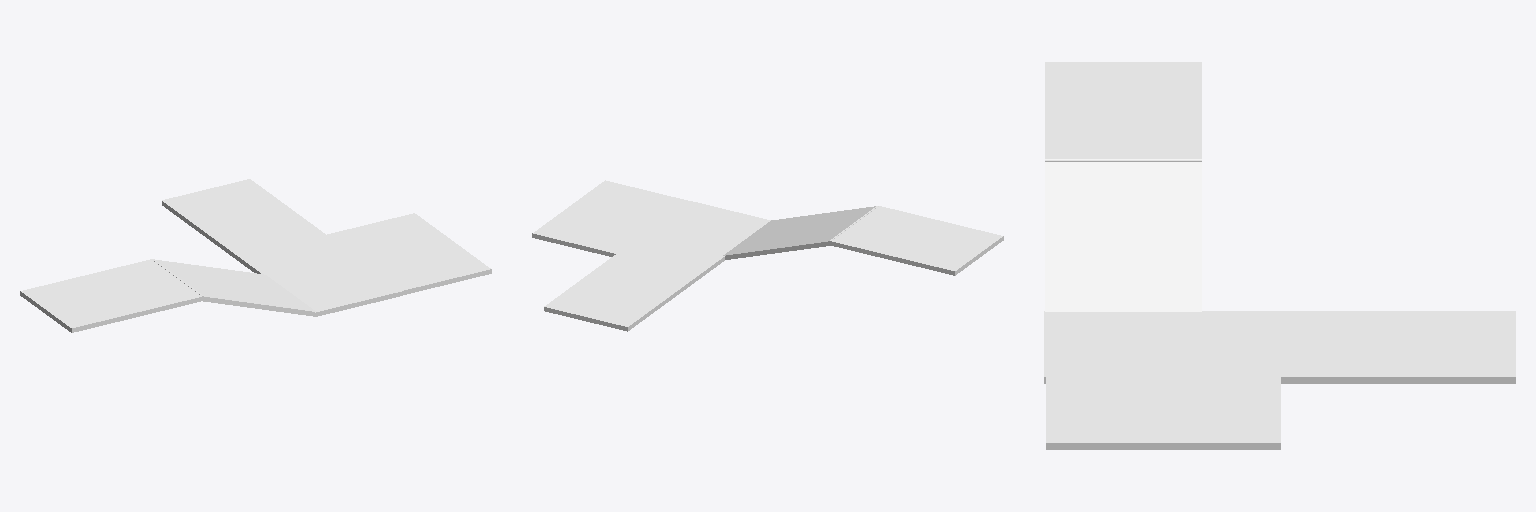
The robot description file, URDF, robot "stair_bauzil":
<robot name="stair_bauzil">
  <link name="base_link">
    <visual>
      <origin xyz="0 0 0" rpy="0 0 0" />
      <geometry>
        <mesh filename="package://hpp-rbprm-corba/meshes/downSlope_easy20.stl"/>
      </geometry>
      <material name="white">
        <color rgba="1 1 1 1"/>
      </material>
    </visual>
    <collision>
      <origin xyz="0 0 0" rpy="0 0 0" />
      <geometry>
        <mesh filename="package://hpp-rbprm-corba/meshes/downSlope_easy20.stl"/>
      </geometry>
    </collision>
  </link>
</robot>

--- What the picture shows (computed from the rendered views, not written in the file) ---
The picture shows the robot from 3 angles, left to right: view 1: azimuth 30°, elevation 25°; view 2: azimuth 150°, elevation 25°; view 3: azimuth 270°, elevation 25°; orthographic projection.
Robot: stair_bauzil — 1 links, 0 joints (none); root link base_link; default pose: every joint at zero.
Visible links, largest first — view 1: base_link; view 2: base_link; view 3: base_link.
Link boxes in pixels (bbox=[...]): base_link: bbox=[20, 179, 491, 332]; base_link: bbox=[532, 180, 1003, 331]; base_link: bbox=[1044, 62, 1515, 449].
Size in the robot's own frame: 9.49 by 6 by 1.05 metres.
1 mesh visuals loaded from 1 distinct referenced files (1 binary STL).
